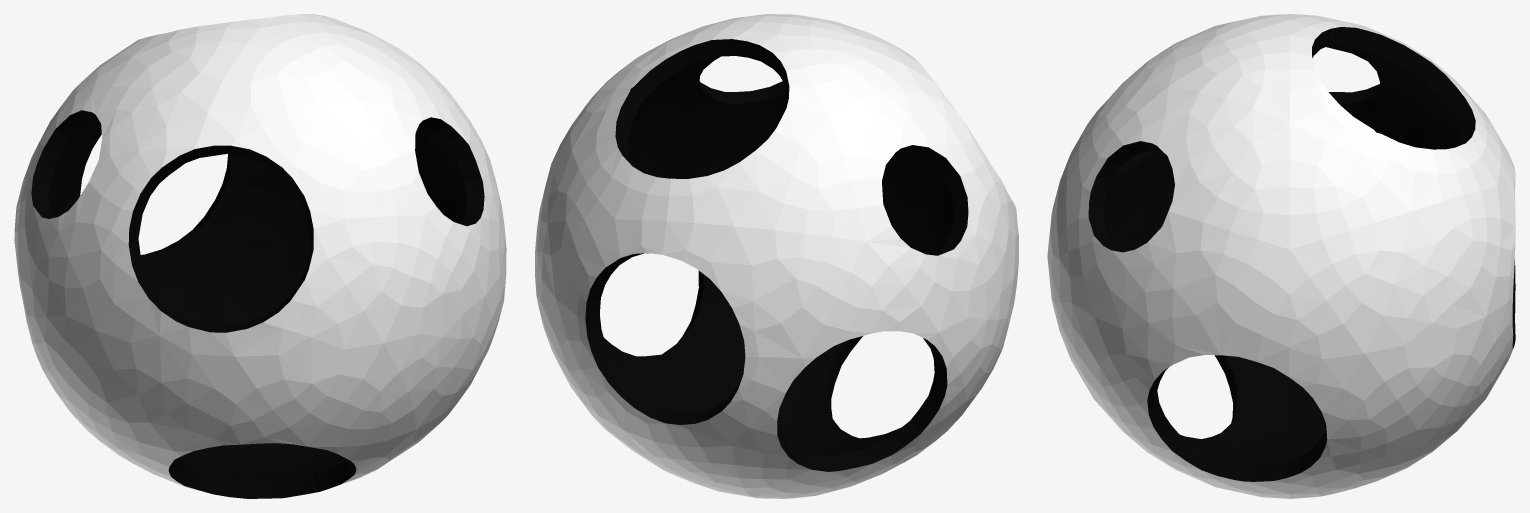
File: PlanetObject.fbx
3 renders of one model, left to right at view 1: azimuth 30°, elevation 25°; view 2: azimuth 150°, elevation 25°; view 3: azimuth 270°, elevation 25°, orthographic.
Visible parts, largest first — view 1: BasePlanet; view 2: BasePlanet; view 3: BasePlanet.
Boxes of the visible parts, box(x1,y1,x2,y2) form: BasePlanet: box(14, 14, 506, 498); BasePlanet: box(535, 14, 1018, 498); BasePlanet: box(1047, 14, 1515, 498).
Size of the model in its own units: 185 by 186 by 179.
